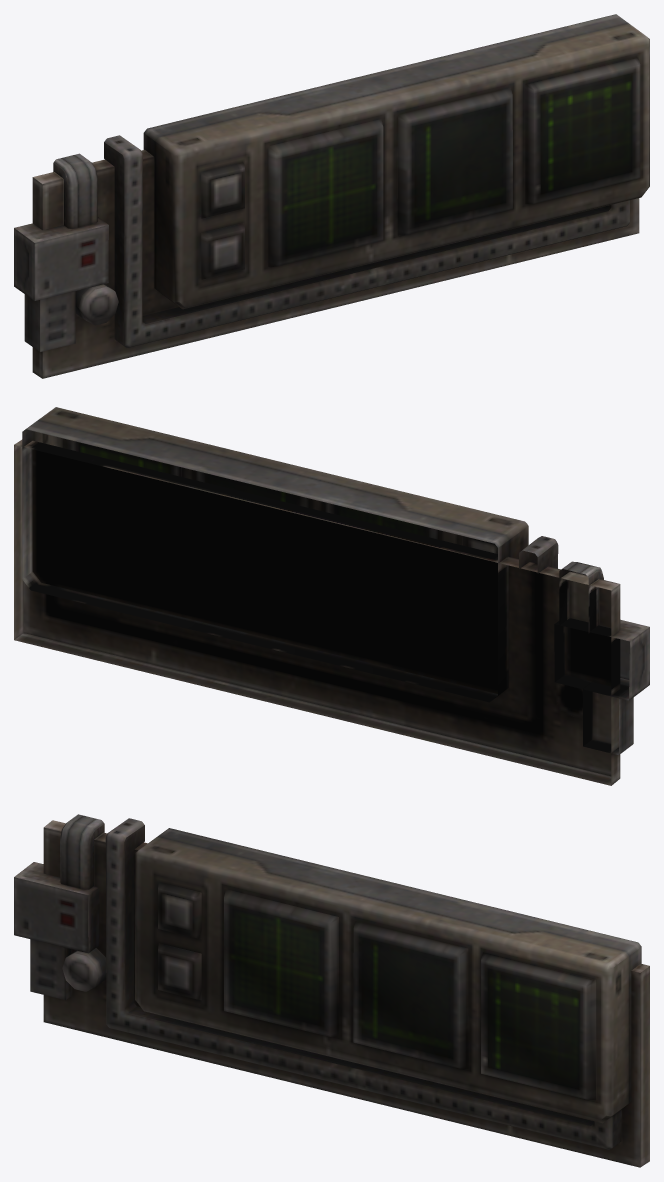
File: computer_parts_dials.dae
The picture shows the model from 3 angles, top to bottom: view 1: azimuth 30°, elevation 25°; view 2: azimuth 150°, elevation 25°; view 3: azimuth 330°, elevation 25°; orthographic projection.
Visible parts, largest first — view 1: computer_parts_dials; view 2: computer_parts_dials; view 3: computer_parts_dials.
Boxes of the visible parts, box(x1,y1,x2,y2) form: computer_parts_dials: box(14, 14, 649, 378); computer_parts_dials: box(14, 407, 649, 785); computer_parts_dials: box(14, 814, 649, 1167).
Bounding box in the file's own units: 1.03 × 0.3438 × 0.1088.
